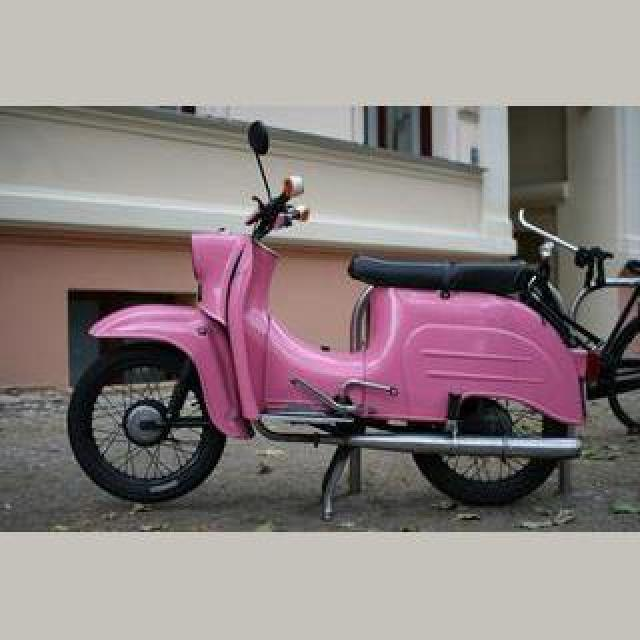Emergency Vehicles-Bike: (56, 116, 618, 522)
Person: (547, 241, 639, 429)
